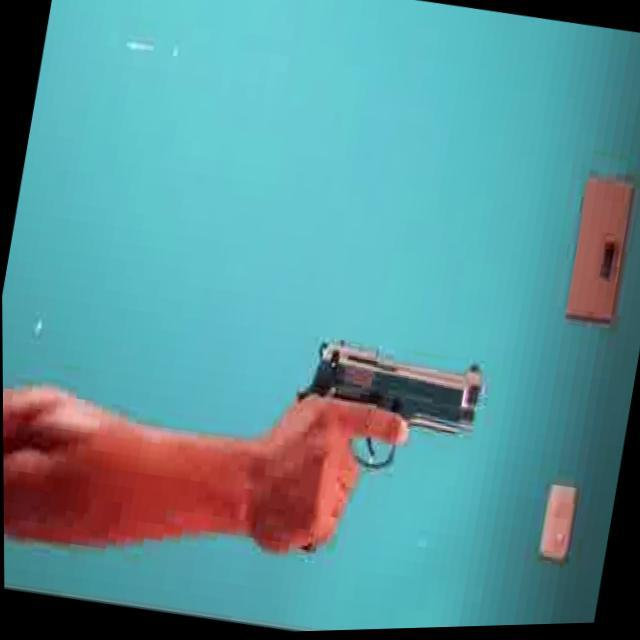weapon: (260, 328, 494, 594)
